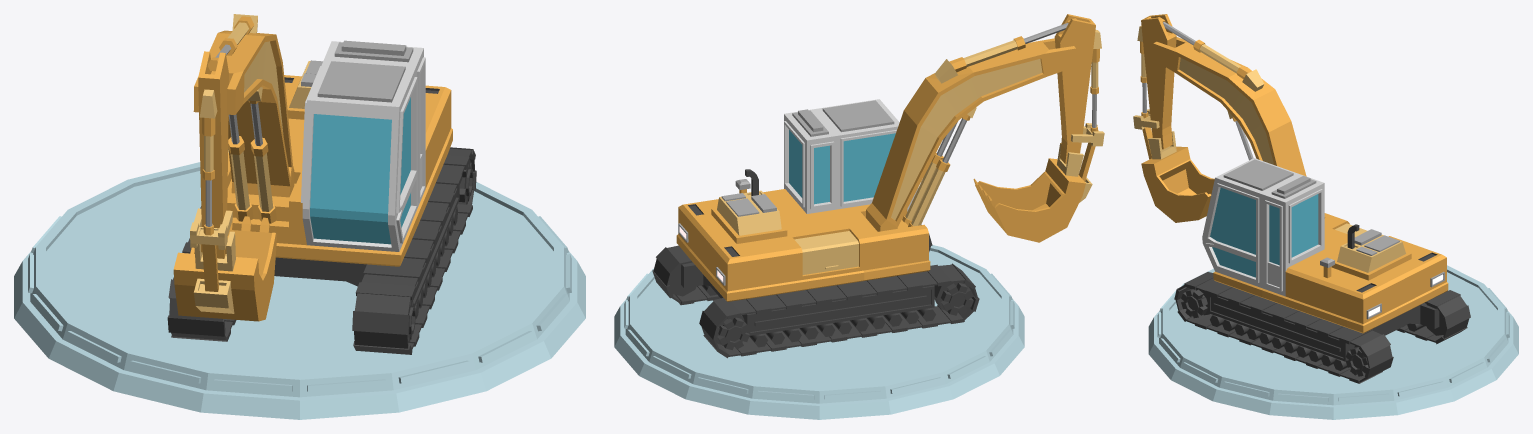
The model's file is Excavator.fbx.
3 views of the same model, side by side, from view 1: azimuth 30°, elevation 25°; view 2: azimuth 150°, elevation 25°; view 3: azimuth 270°, elevation 25° (orthographic). The views are drawn at different scales.
Visible parts, largest first — view 1: Platform, Excavator_1, Continuous_track, jib1, ladle, jib, Bottom_part, Continuous_track1, piston2, piston1, piston3, piston4; view 2: Platform, Excavator_1, jib1, Continuous_track1, ladle, Bottom_part, jib, Continuous_track, piston4, piston1, circle, circle1 (+2 smaller); view 3: Excavator_1, Platform, jib1, Continuous_track, ladle, Bottom_part, jib, Continuous_track1, piston4, circle_2, circle1_2, piston3.
Part boxes in pixels (x1,y1,x2,y2): Platform: (14, 162, 585, 419); Excavator_1: (227, 40, 452, 266); Continuous_track: (352, 147, 476, 354); jib1: (193, 14, 294, 197); ladle: (173, 216, 277, 321); jib: (190, 51, 232, 291); Bottom_part: (274, 186, 459, 306); Continuous_track1: (167, 206, 236, 341); piston2: (248, 100, 276, 223); piston1: (228, 114, 253, 221); piston3: (202, 117, 215, 235); piston4: (208, 16, 254, 71); Platform: (614, 245, 1024, 419); Excavator_1: (676, 99, 930, 301); jib1: (866, 38, 1076, 231); Continuous_track1: (699, 263, 979, 358); ladle: (973, 143, 1092, 242); Bottom_part: (681, 262, 934, 335); jib: (1054, 14, 1104, 181); Continuous_track: (652, 224, 932, 305); piston4: (949, 18, 1076, 72); piston1: (908, 114, 970, 226); circle: (934, 282, 973, 315); circle1: (716, 315, 749, 350); Excavator_1: (1202, 158, 1448, 333); Platform: (1148, 265, 1518, 419); jib1: (1153, 37, 1306, 176); Continuous_track: (1174, 272, 1393, 383); ladle: (1141, 131, 1214, 222); Bottom_part: (1207, 294, 1439, 361); jib: (1133, 14, 1176, 159); Continuous_track1: (1396, 290, 1470, 344); piston4: (1158, 17, 1251, 78); circle_2: (1181, 288, 1209, 318); circle1_2: (1346, 345, 1368, 376); piston3: (1140, 41, 1148, 118).
Size of the model in its own units: 387 by 289 by 395.
